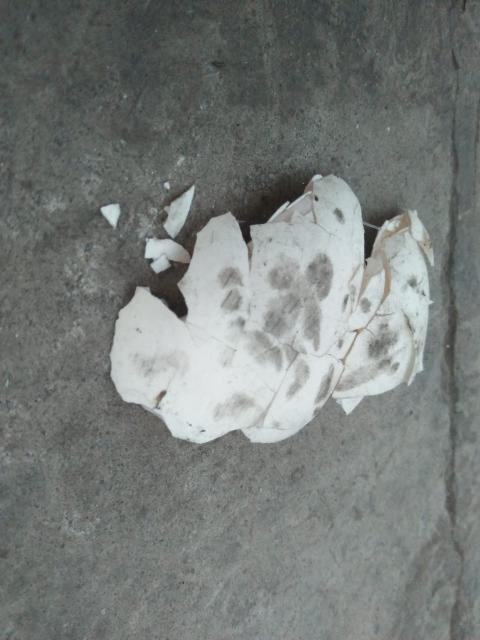Roto: (108, 172, 434, 446)
